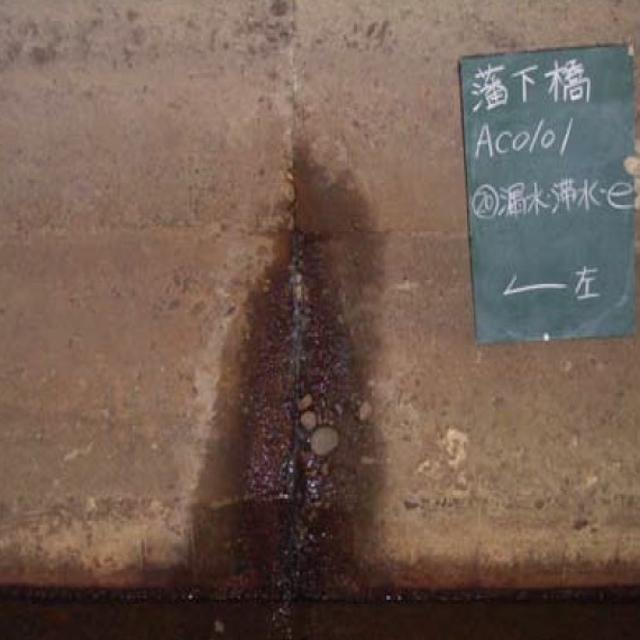leakage: (200, 160, 407, 621)
